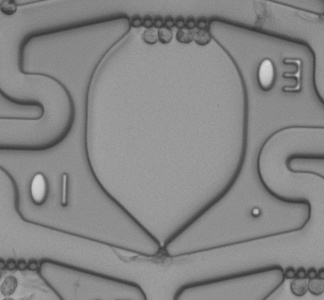AptNum: (252, 54, 308, 97)
Marker: (246, 204, 265, 220)
StNum: (29, 169, 72, 209)
